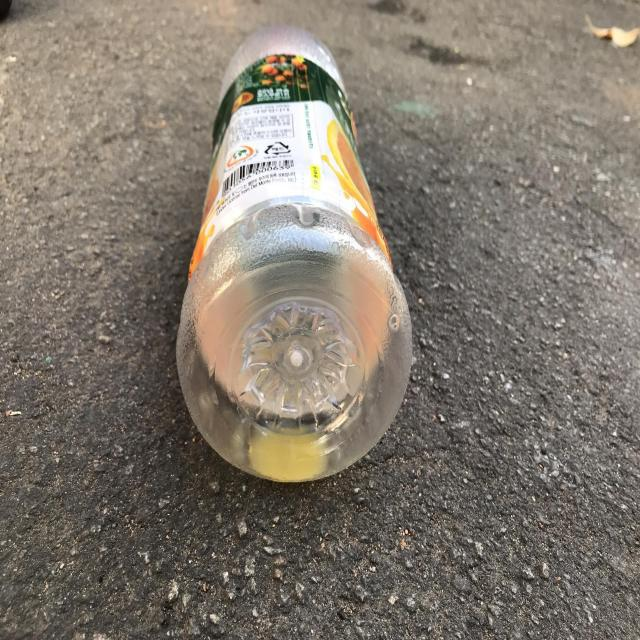plastic: (177, 24, 412, 482)
